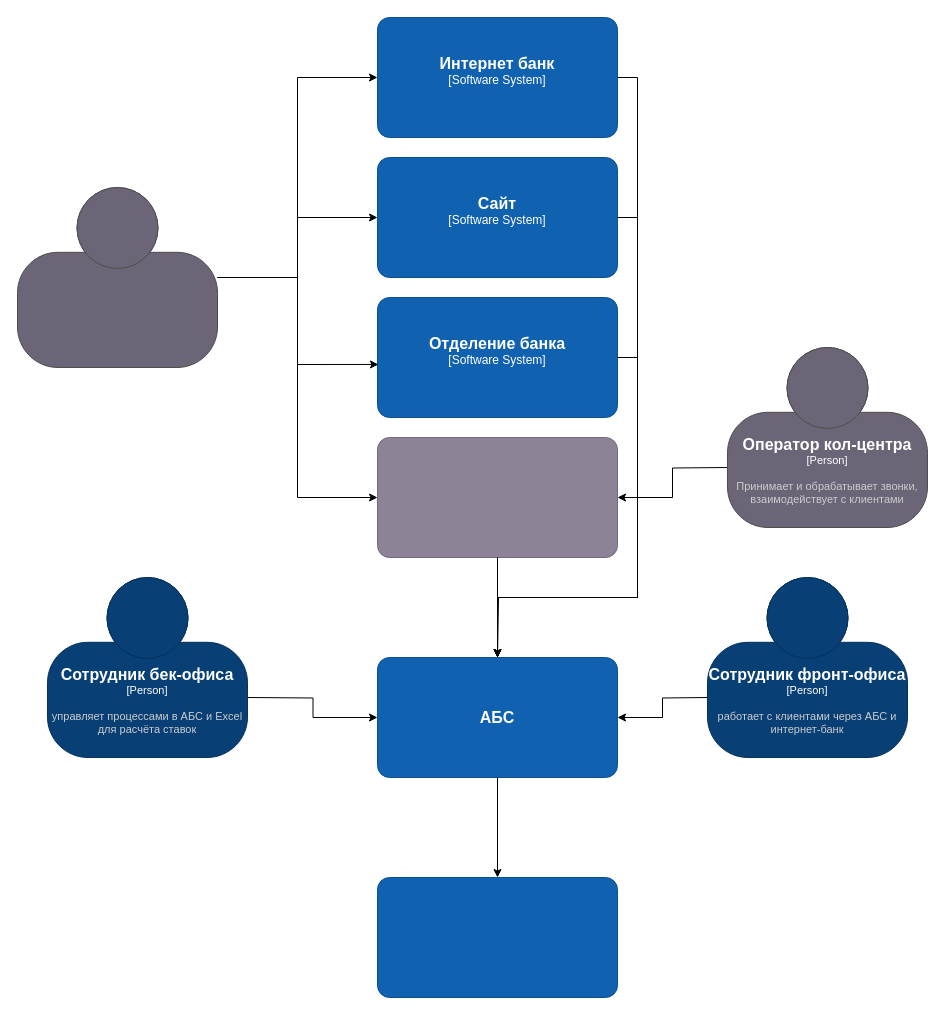
The diagram is 945 pixels wide and 1015 high, and some of its shapes have lost their labels. The centre of each missing label's shape, as x and y in pixels:
"Клиент [Person]" belongs at [117,277].
"Партнерский кол-центр -------------------- Кол-центр [Software System]" belongs at [497,497].
"СМС-шлюз [Software System]" belongs at [497,937].
